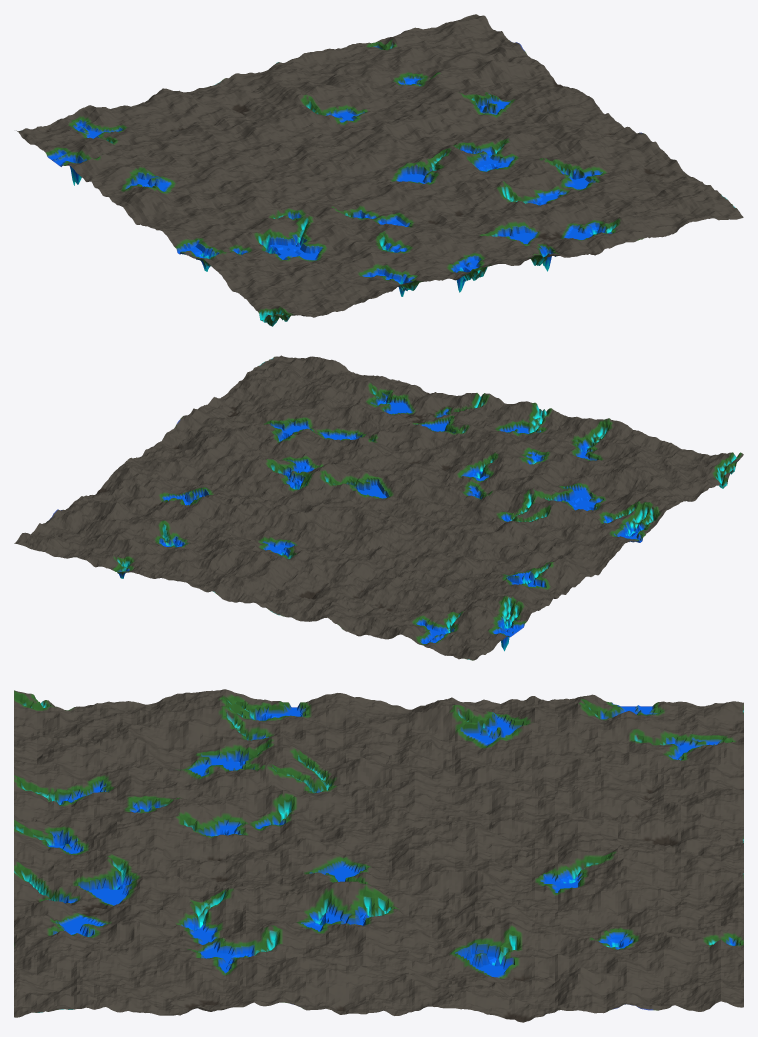
Rendered from terrain_RIVER.obj.
3 views of the same model, one above another, from view 1: azimuth 30°, elevation 25°; view 2: azimuth 150°, elevation 25°; view 3: azimuth 270°, elevation 25° (orthographic). The views are drawn at different scales.
Visible parts, largest first — view 1: RIVER; view 2: RIVER; view 3: RIVER.
Part boxes in pixels (left/top/right/bottom): RIVER: left=16, top=14, right=743, bottom=326; RIVER: left=14, top=355, right=743, bottom=660; RIVER: left=14, top=689, right=743, bottom=1022.
Bounding box in the file's own units: 255 × 22.64 × 255.
1 material, 1 textured.
